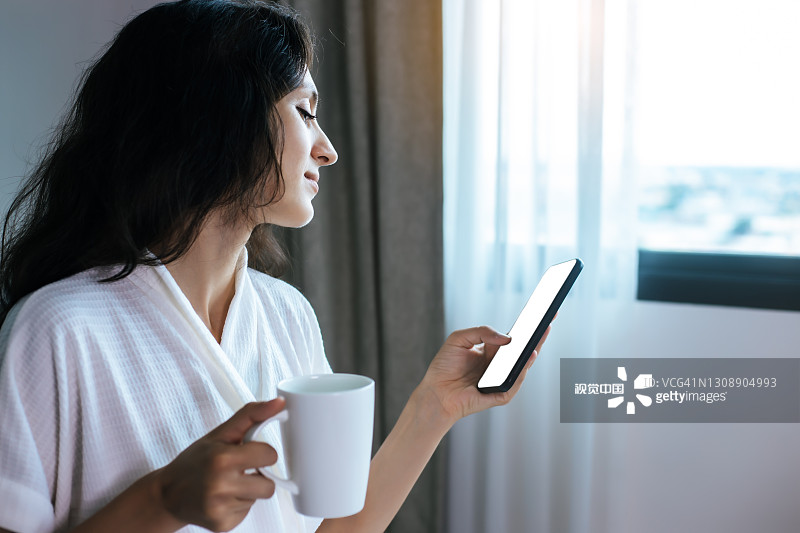no-phone: (128, 384, 331, 533)
reading: (395, 272, 563, 416)
